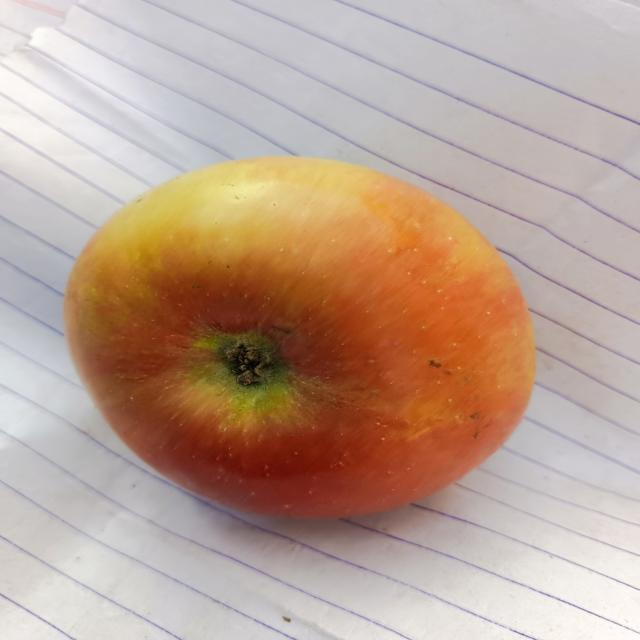Fresh Apple: (61, 155, 535, 527)
